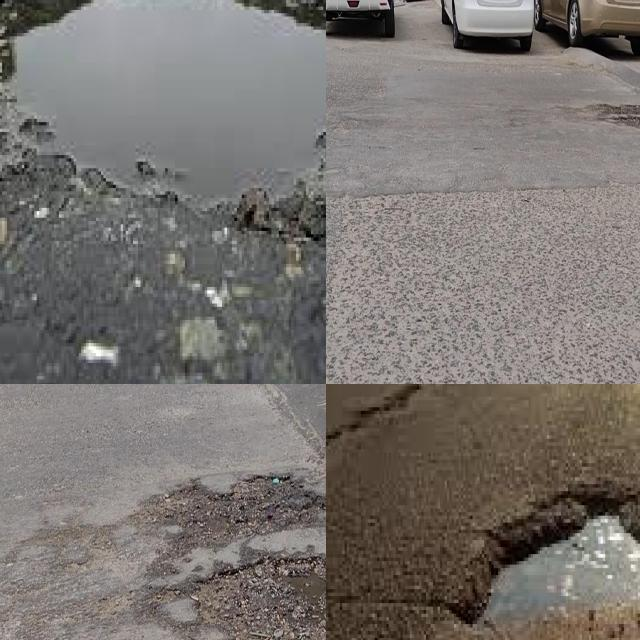Pothole: (482, 516, 640, 624), (156, 478, 326, 568), (197, 552, 326, 640), (595, 99, 640, 130)
